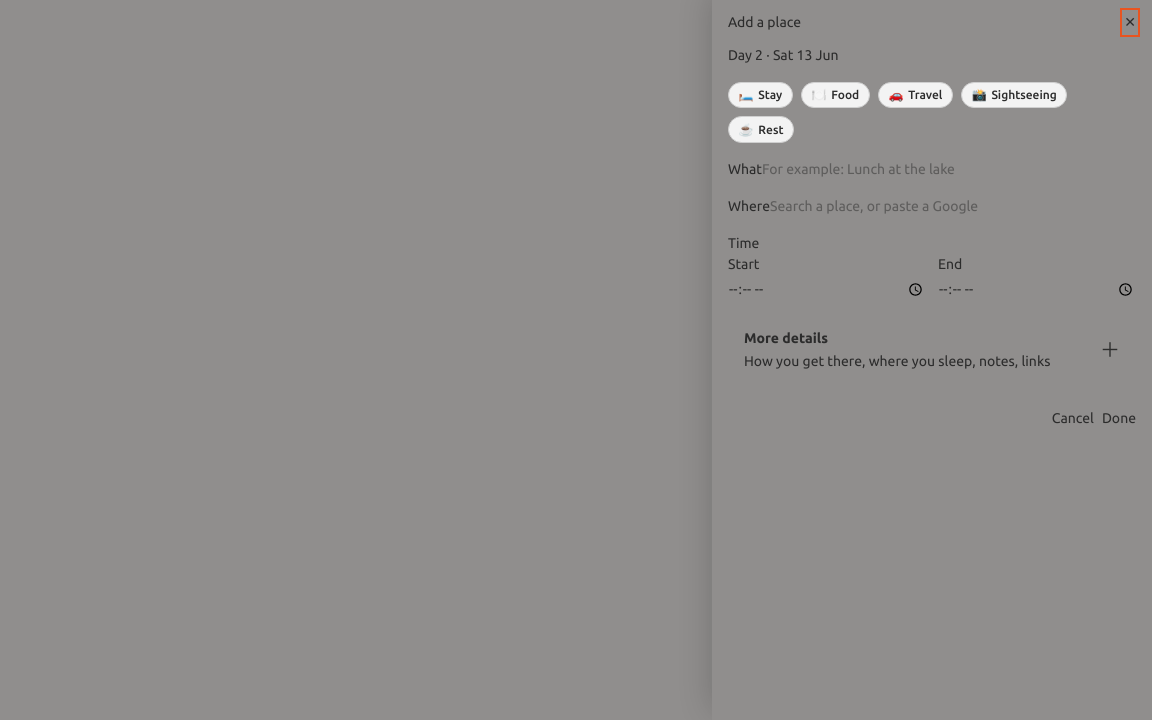
Test: PlannerAddStopComponent (quick add) › keeps a pasted link it cannot read, so nothing is lost
The image size is (1152, 720).
Type "https://example.com/some-blog-post" into the dropdown with test id "stop-where". click: (876, 206)
box: top-left (770, 196), bottom-right (982, 217)
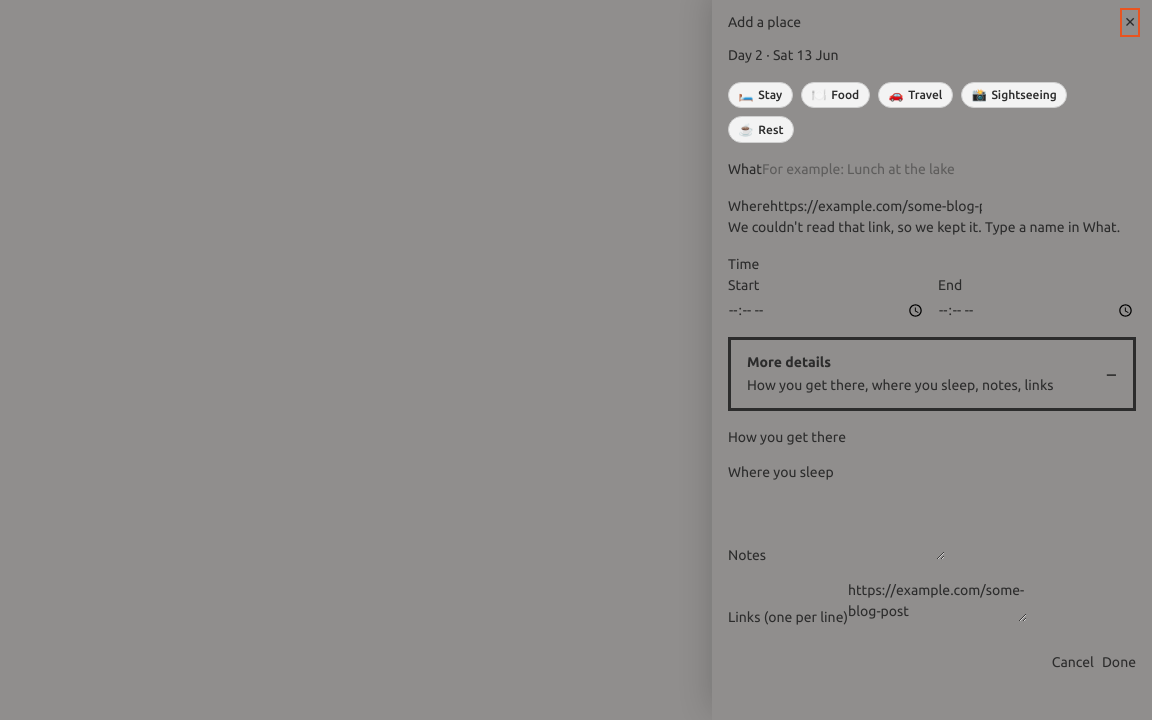
Result: the text "We couldn't read that link" is shown at top-left (728, 219), bottom-right (1120, 235)
